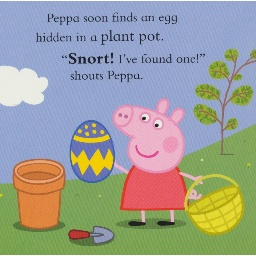Peppa: (111, 98, 194, 227)
